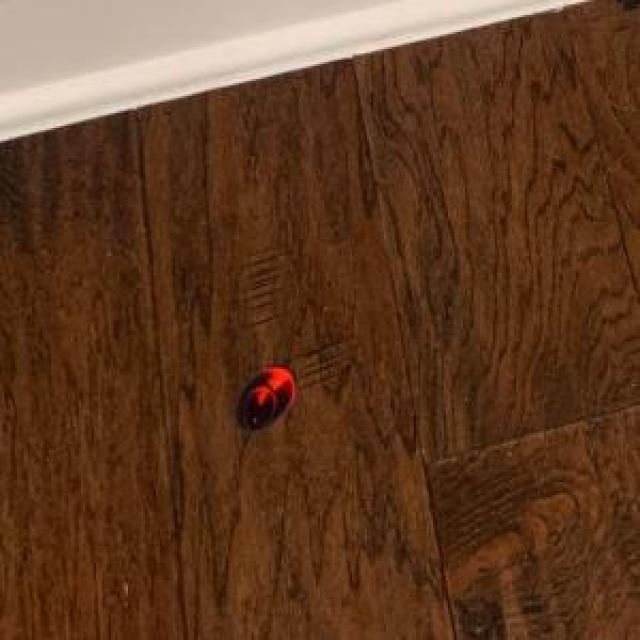Medicol: (224, 356, 302, 444)
